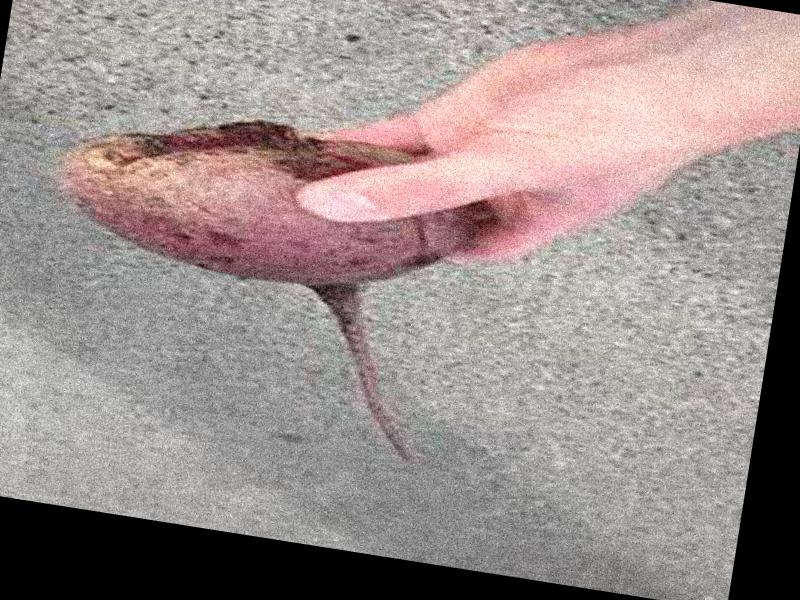Beet: (26, 92, 474, 461)
